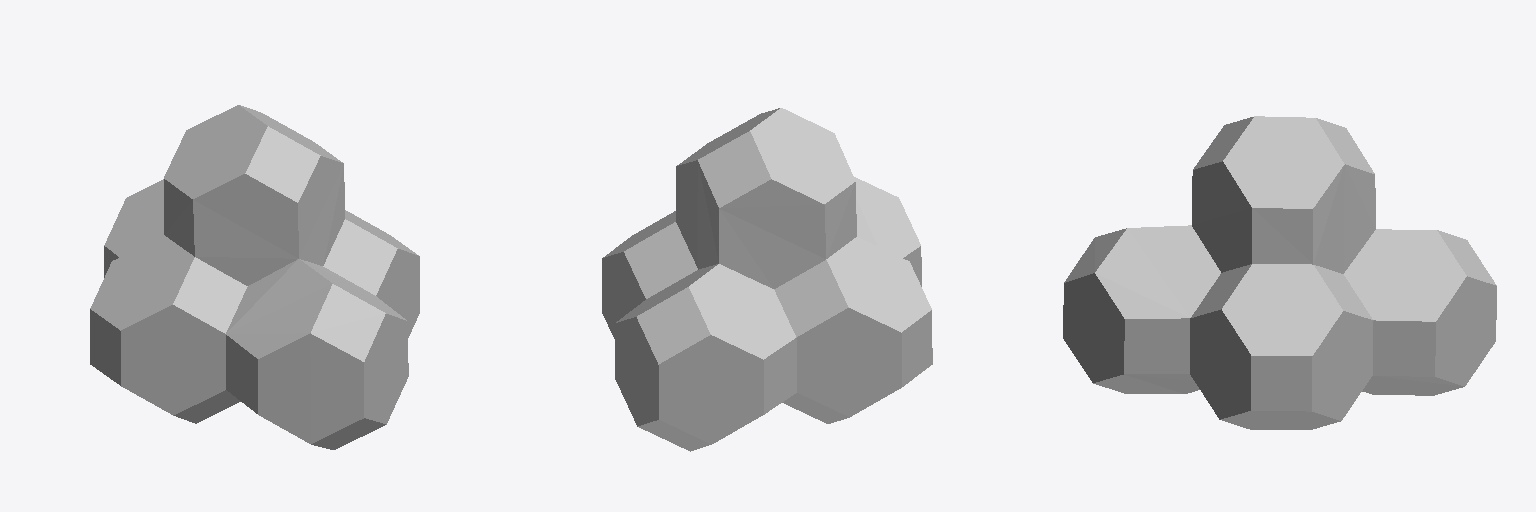
The model's file is fcc5.obj.
3 renders of one model, left to right at view 1: azimuth 30°, elevation 25°; view 2: azimuth 150°, elevation 25°; view 3: azimuth 270°, elevation 25°, orthographic.
Parts seen in each view (by area): view 1: Obj2.001_Mesh2.001, Obj4_Mesh4, Obj1_Mesh1, Obj3_Mesh3, Obj2_Mesh2; view 2: Obj2_Mesh2, Obj4_Mesh4, Obj1_Mesh1, Obj3_Mesh3, Obj2.001_Mesh2.001; view 3: Obj3_Mesh3, Obj4_Mesh4, Obj2.001_Mesh2.001, Obj2_Mesh2.
Part boxes in pixels (x1,y1,x2,y2): Obj2.001_Mesh2.001: (226,259,408,449); Obj4_Mesh4: (164,105,344,285); Obj1_Mesh1: (90,235,247,423); Obj3_Mesh3: (323,210,419,337); Obj2_Mesh2: (104,179,163,277); Obj2_Mesh2: (614,264,796,451); Obj4_Mesh4: (676,108,856,288); Obj1_Mesh1: (774,237,932,423); Obj3_Mesh3: (602,211,697,338); Obj2.001_Mesh2.001: (854,177,921,286); Obj3_Mesh3: (1190,264,1373,429); Obj4_Mesh4: (1192,116,1375,273); Obj2.001_Mesh2.001: (1063,225,1220,393); Obj2_Mesh2: (1344,229,1496,395).
Bounding box in the file's own units: 2.43 × 2.16 × 3.05.